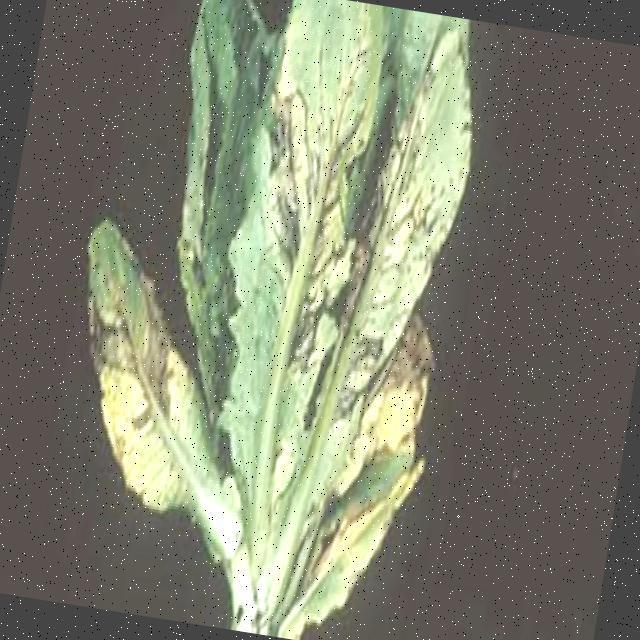Lettuce Mosaic Virus: (227, 61, 484, 582)
